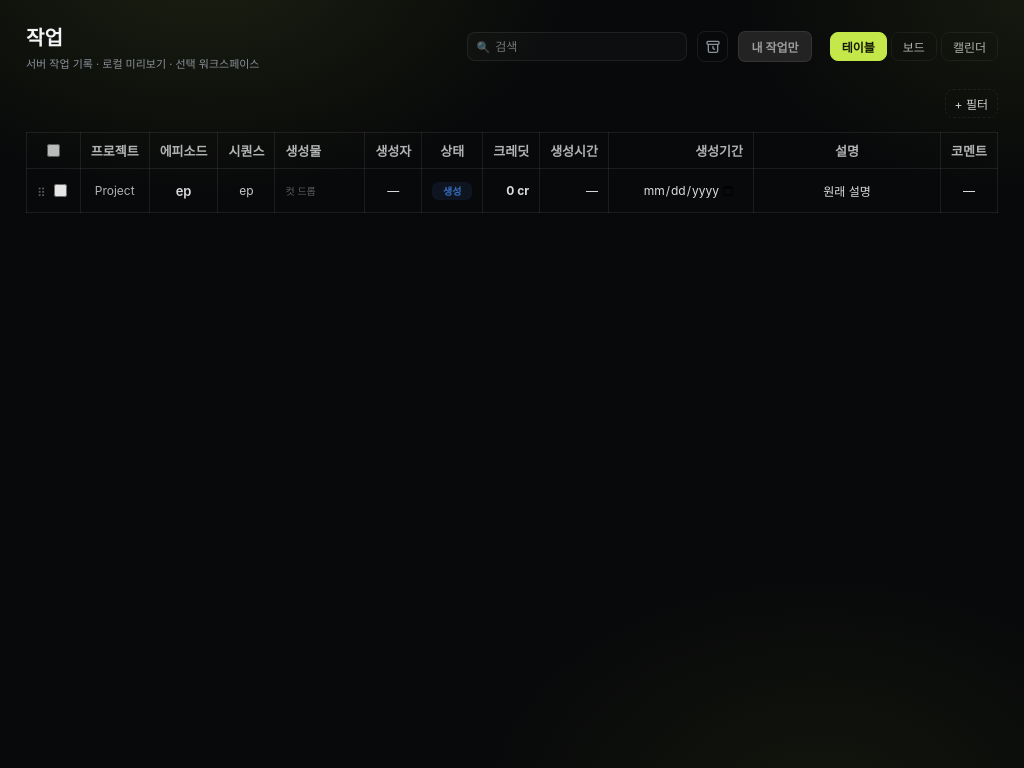
it: 보관 기록에 다녀온 뒤의 실패도 오류 화면이다 — 비운 표를 '마지막으로 받은 내용'이라 하지 않는다
expect the field with class "work-cell-in" holds "원래 설명": met, box [764,178,930,203]
Click the button with class "work-history-toggle" at (713, 46), box [698,31,728,62]
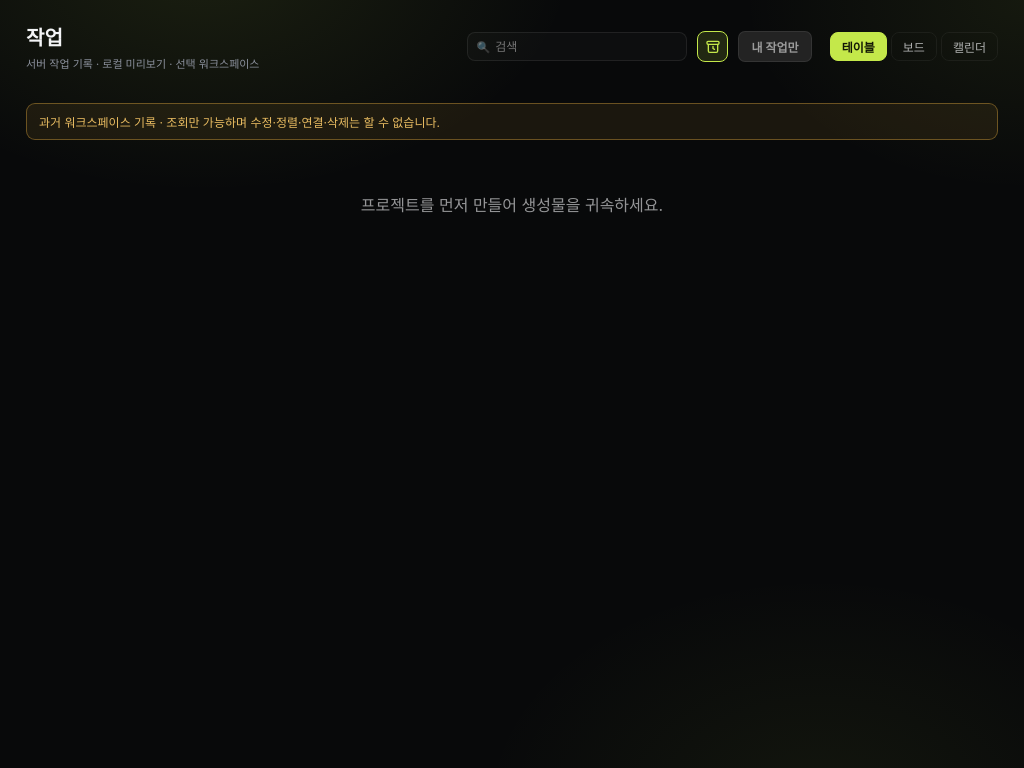
Click the button with class "work-history-toggle" at (713, 46), box [698,31,728,62]
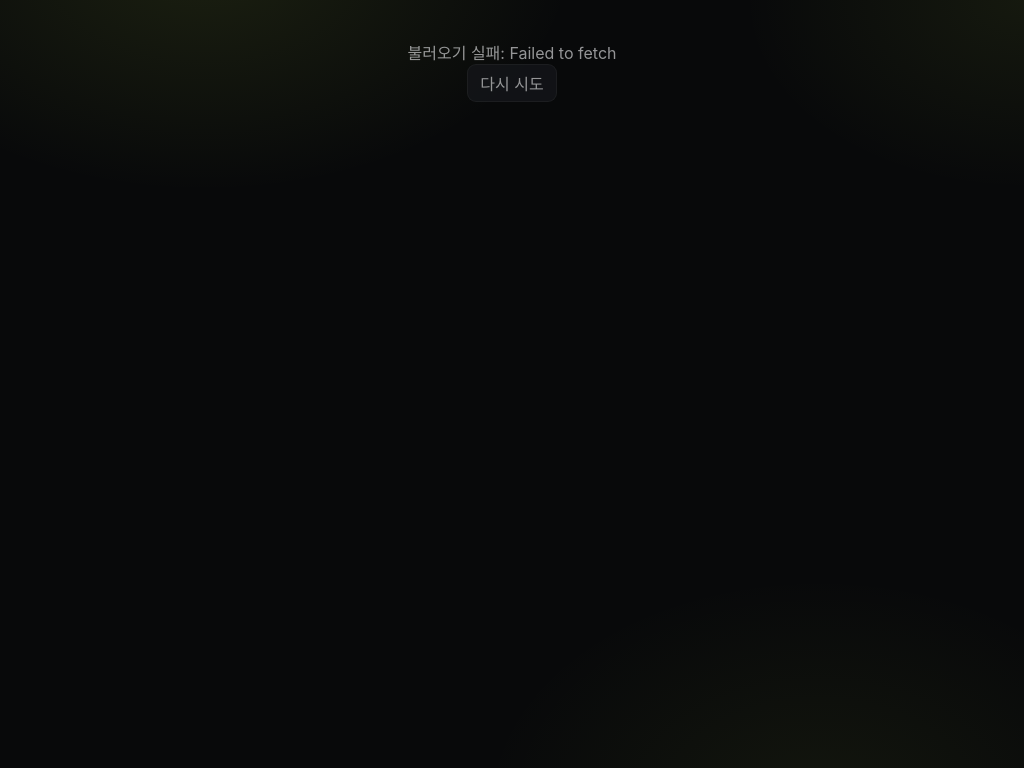
expect the text "불러오기 실패" is shown: met, box [408,43,509,63]
